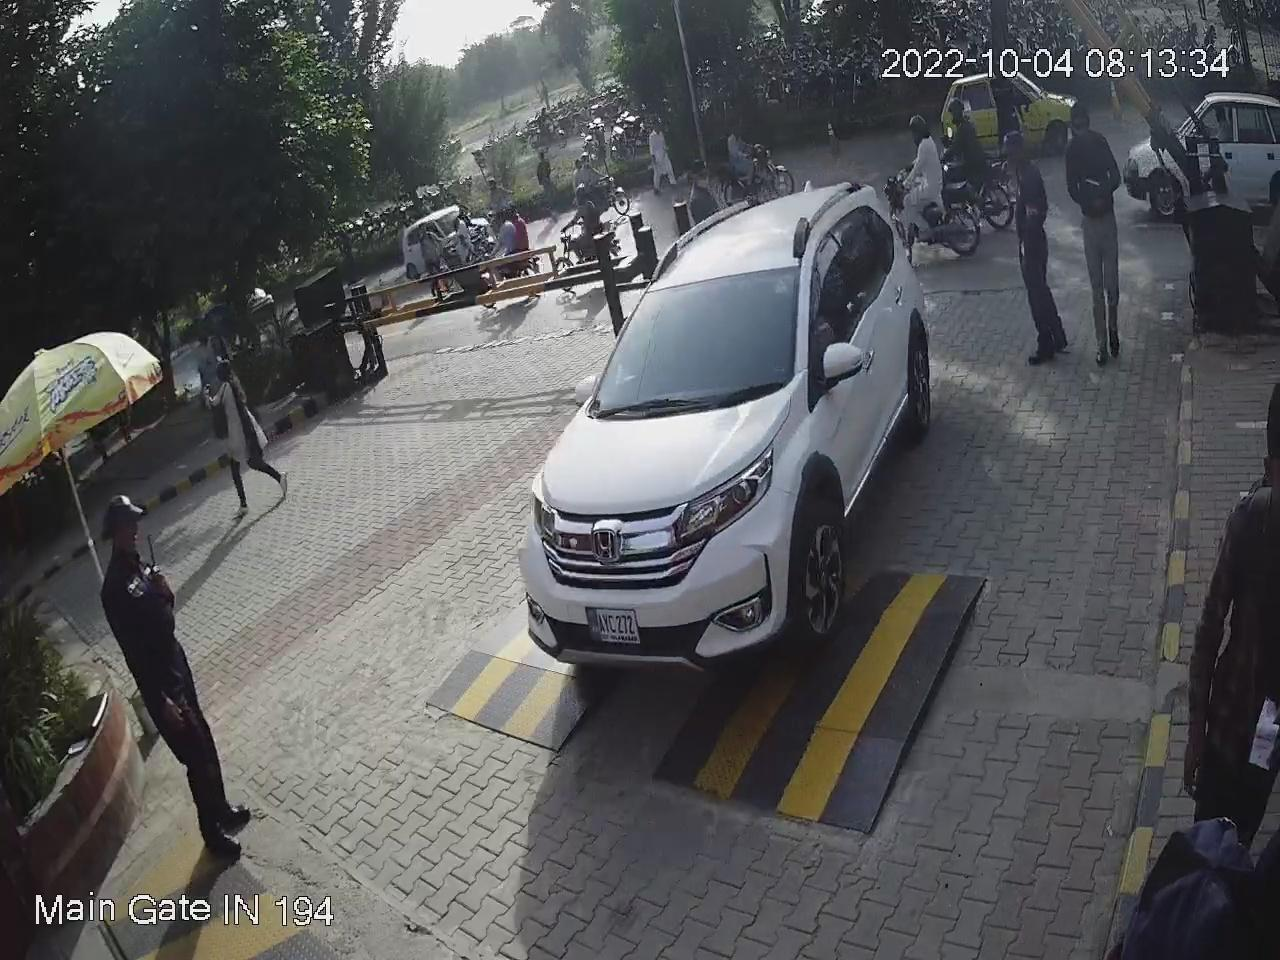windshield: (572, 245, 803, 417)
